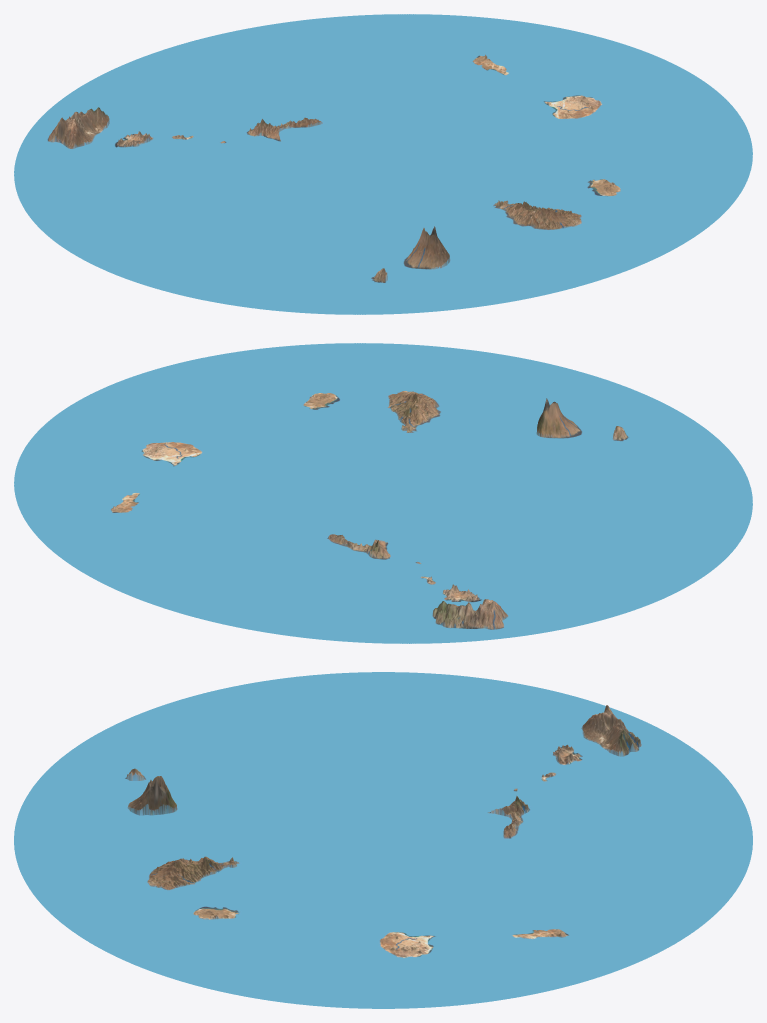
File: CPV-previa-terrain.glb
3 renders of one model, top to bottom at view 1: azimuth 30°, elevation 25°; view 2: azimuth 150°, elevation 25°; view 3: azimuth 270°, elevation 25°, orthographic. The views are drawn at different scales.
Parts seen in each view (by area): view 1: Cabo Verde; view 2: Cabo Verde; view 3: Cabo Verde.
Boxes of the visible parts, x1,y1,x2,y2 form: Cabo Verde: (14,14,752,314); Cabo Verde: (14,343,752,643); Cabo Verde: (14,672,752,1008).
Bounding box in the file's own units: 2.51 × 0.1132 × 2.33.
1 material, 1 textured.
